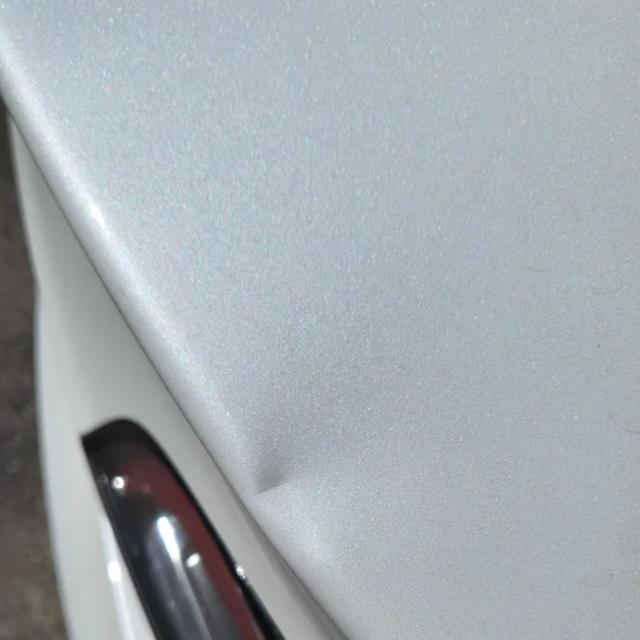dents: (228, 437, 326, 554)
